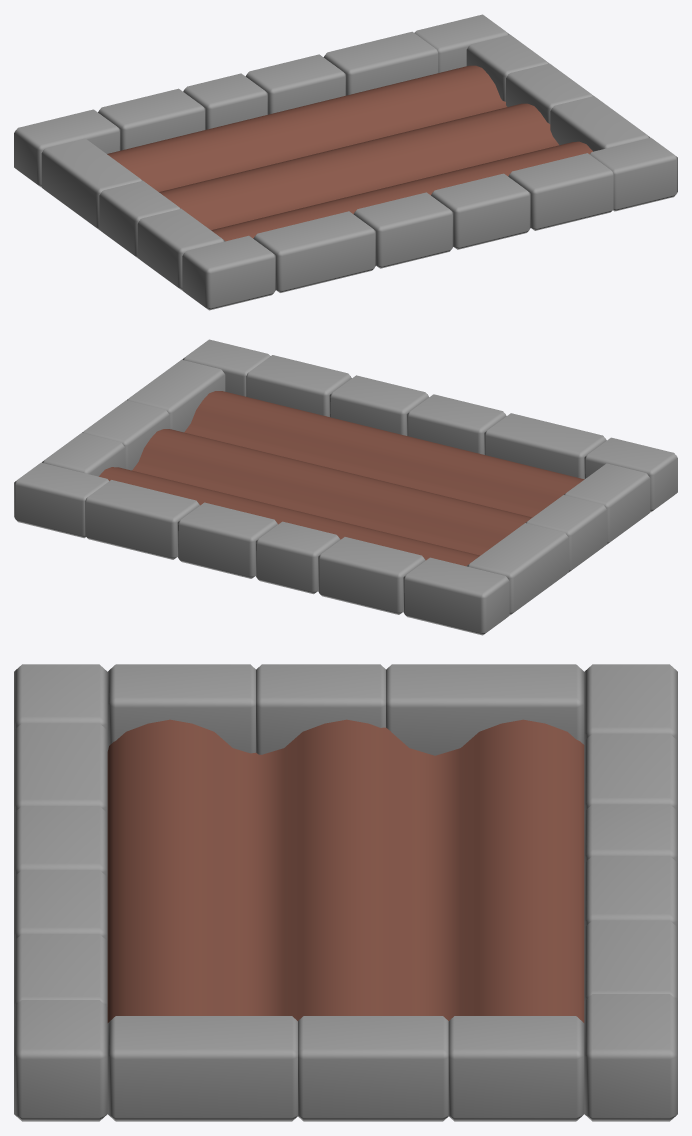
The model's file is Town_14_Garden_1.glb.
3 views of the same model, one above another, from view 1: azimuth 30°, elevation 25°; view 2: azimuth 150°, elevation 25°; view 3: azimuth 270°, elevation 25° (orthographic). The views are drawn at different scales.
Parts seen in each view (by area): view 1: Town_14_Garden_1; view 2: Town_14_Garden_1; view 3: Town_14_Garden_1.
Part boxes in pixels (x1,y1,x2,y2): Town_14_Garden_1: (14,14,677,310); Town_14_Garden_1: (14,339,677,635); Town_14_Garden_1: (14,664,677,1121).
Size of the model in its own units: 2.11 by 0.1827 by 1.51.
1 material, 1 textured.
